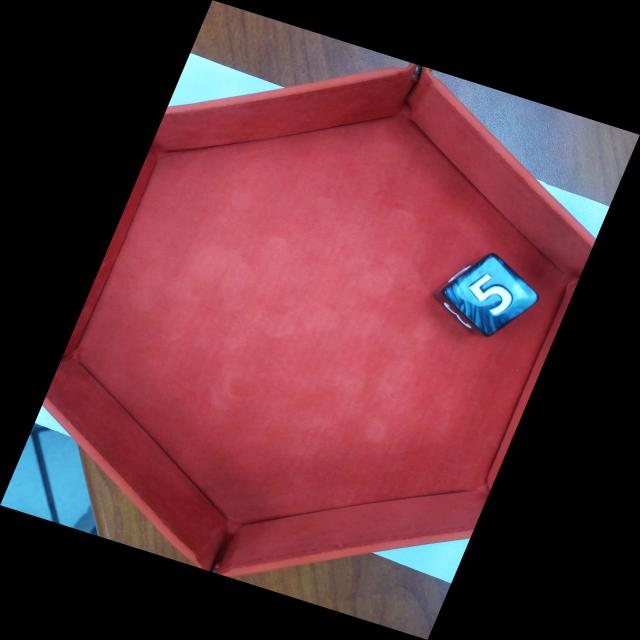dice: (449, 258, 537, 335)
